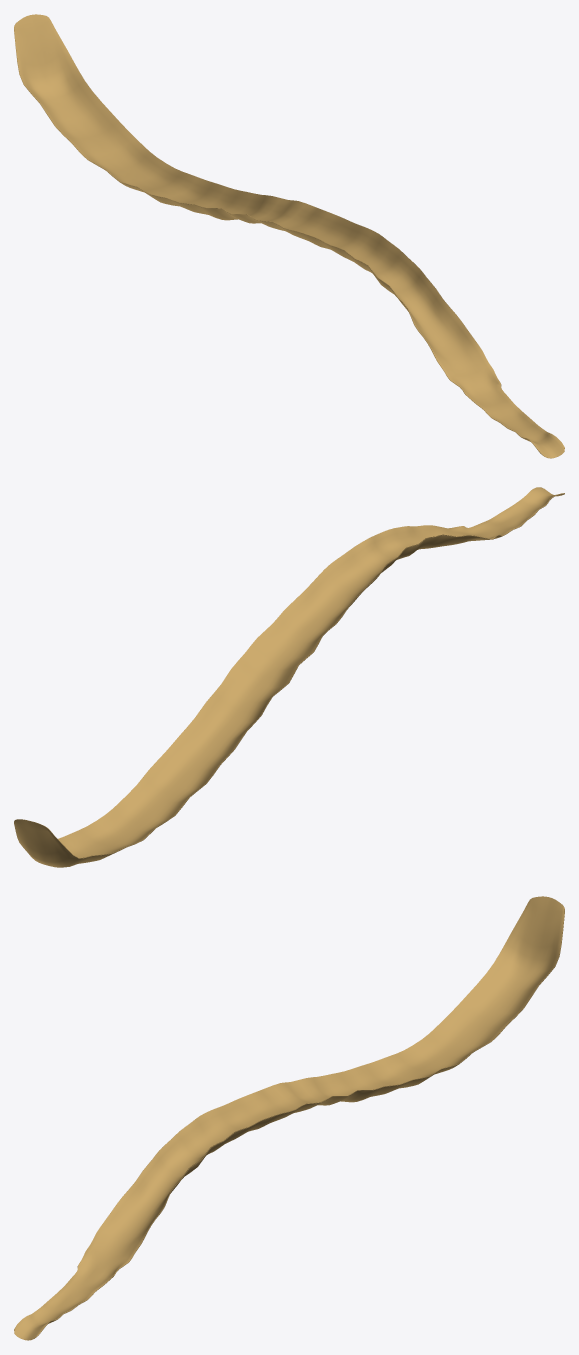
The picture shows the model from 3 angles, top to bottom: view 1: azimuth 30°, elevation 25°; view 2: azimuth 150°, elevation 25°; view 3: azimuth 330°, elevation 25°; orthographic projection.
Parts seen in each view (by area): view 1: 前纵韧带; view 2: 前纵韧带; view 3: 前纵韧带.
Part boxes in pixels (x1,y1,x2,y2): 前纵韧带: (14, 14, 564, 458); 前纵韧带: (14, 487, 564, 867); 前纵韧带: (14, 896, 564, 1340).
Bounding box in the file's own units: 0.0576 × 0.096 × 0.9009.
